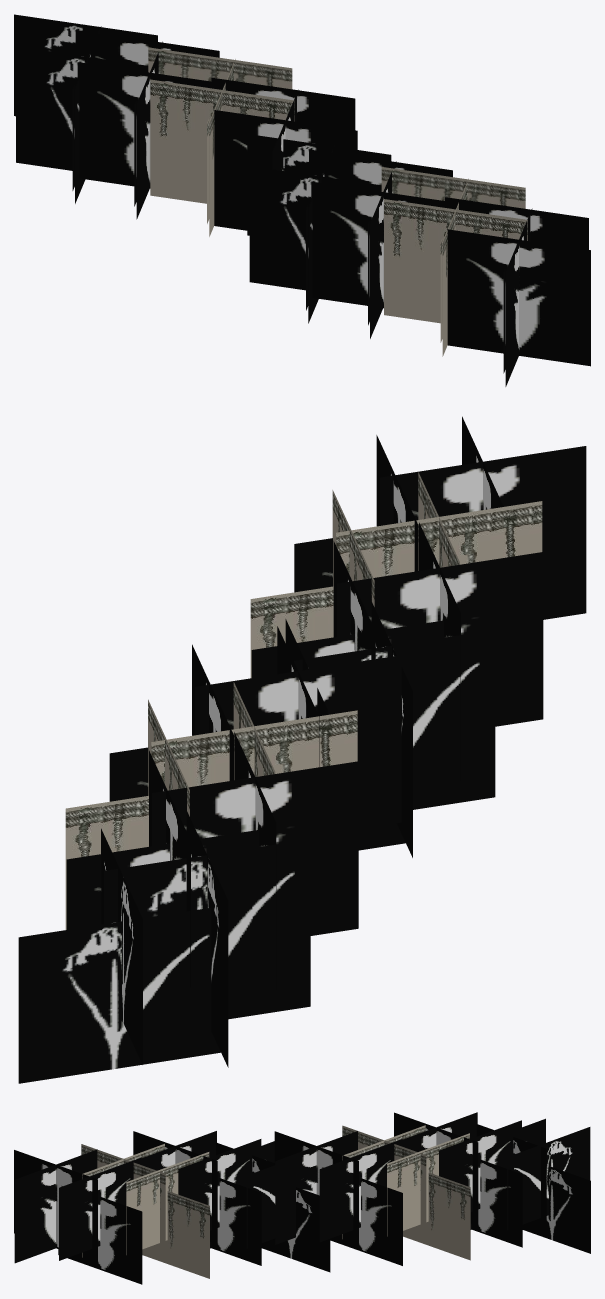
The model's file is chao02.obj.
The picture shows the model from 3 angles, top to bottom: view 1: azimuth 30°, elevation 25°; view 2: azimuth 150°, elevation 25°; view 3: azimuth 270°, elevation 25°; orthographic projection. The views are drawn at different scales.
Parts seen in each view (by area): view 1: chao02; view 2: chao02; view 3: chao02.
Boxes of the visible parts, x1,y1,x2,y2 form: chao02: (14,14,590,386); chao02: (18,416,586,1083); chao02: (14,1112,590,1284).
Bounding box in the file's own units: 40.71 × 24.95 × 120.
